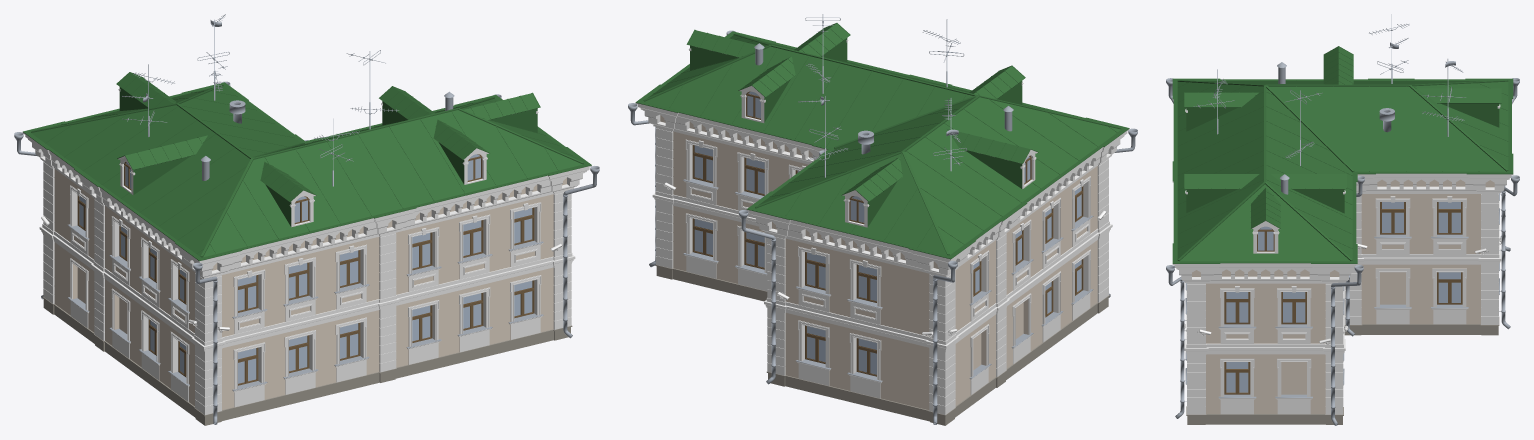
3 views of the same model, side by side, from view 1: azimuth 30°, elevation 25°; view 2: azimuth 150°, elevation 25°; view 3: azimuth 270°, elevation 25° (orthographic). The views are drawn at different scales.
Visible parts, largest first — view 1: 2_store_build_001.001, 2_store_build_001.005, 2_store_build_001.006, 2_store_build_001.003, 2_store_build_001.002, 2_store_build_001, 2_store_build_001.004; view 2: 2_store_build_001.001, 2_store_build_001.005, 2_store_build_001.006, 2_store_build_001.002, 2_store_build_001.003, 2_store_build_001, 2_store_build_001.004; view 3: 2_store_build_001.001, 2_store_build_001.005, 2_store_build_001.006, 2_store_build_001.002, 2_store_build_001.003, 2_store_build_001, 2_store_build_001.004.
Part boxes in pixels (x1,y1,x2,y2): 2_store_build_001.001: (23, 72, 591, 261); 2_store_build_001.005: (22, 88, 591, 414); 2_store_build_001.006: (54, 169, 566, 409); 2_store_build_001.003: (79, 154, 532, 383); 2_store_build_001.002: (14, 14, 599, 424); 2_store_build_001: (42, 296, 572, 425); 2_store_build_001.004: (77, 154, 534, 385); 2_store_build_001.001: (635, 23, 1129, 259); 2_store_build_001.005: (635, 39, 1129, 414); 2_store_build_001.006: (660, 115, 1097, 409); 2_store_build_001.002: (628, 14, 1137, 424); 2_store_build_001.003: (694, 91, 1081, 374); 2_store_build_001: (655, 265, 1109, 425); 2_store_build_001.004: (692, 91, 1083, 376); 2_store_build_001.001: (1172, 46, 1513, 263); 2_store_build_001.005: (1172, 99, 1513, 414); 2_store_build_001.006: (1192, 179, 1494, 413); 2_store_build_001.002: (1166, 14, 1519, 425); 2_store_build_001.003: (1226, 202, 1460, 392); 2_store_build_001: (1186, 317, 1499, 424); 2_store_build_001.004: (1224, 202, 1462, 394).
Size of the model in its own units: 0.1751 by 0.1144 by 0.1371.
